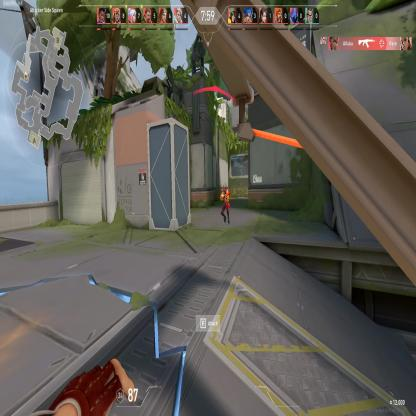enemy: (219, 181, 230, 225)
